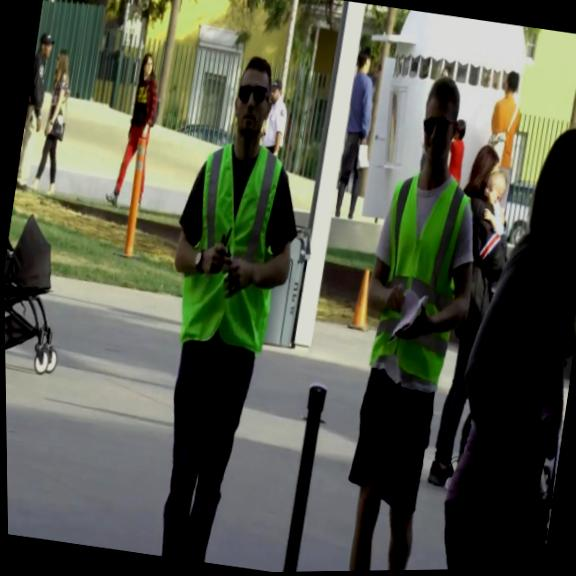safety_vest: (171, 135, 293, 356), (363, 166, 480, 382)
